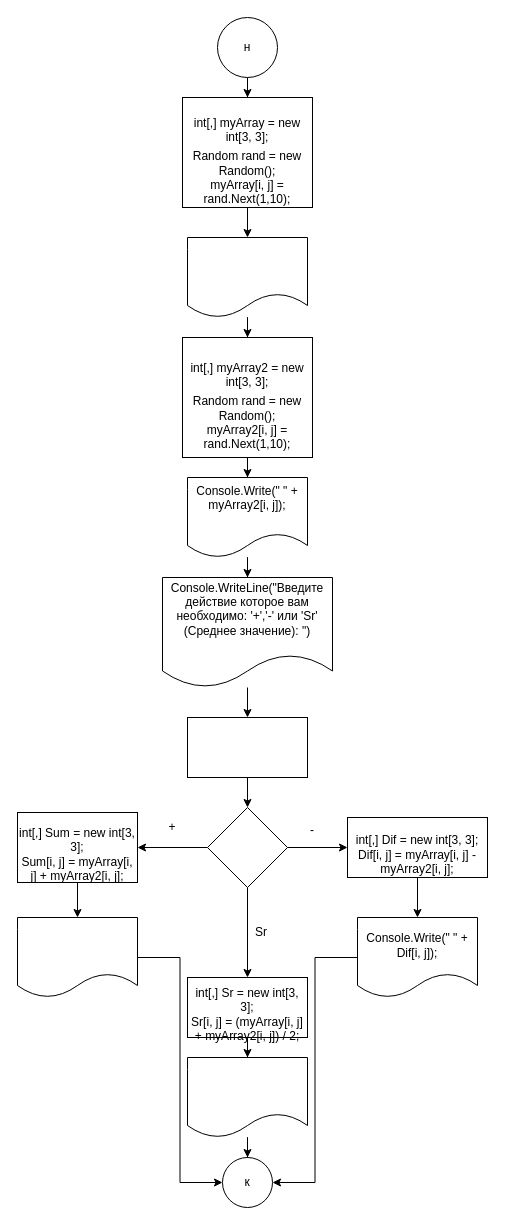
Image size: 505x1225. Some labels were removed from this diagram. Each missing label, with the box of its shape:
Console . Write ( " " + myArray [ i , j ]);: (186, 236, 308, 318)
Console . Write ( " " + Sr [ i , j ]);: (186, 1056, 308, 1138)
Console . Write ( " " + Sum [ i , j ]): (16, 916, 138, 998)
string opt = Console . ReadLine ();: (186, 716, 308, 778)
switch ( opt ): (206, 806, 288, 888)
